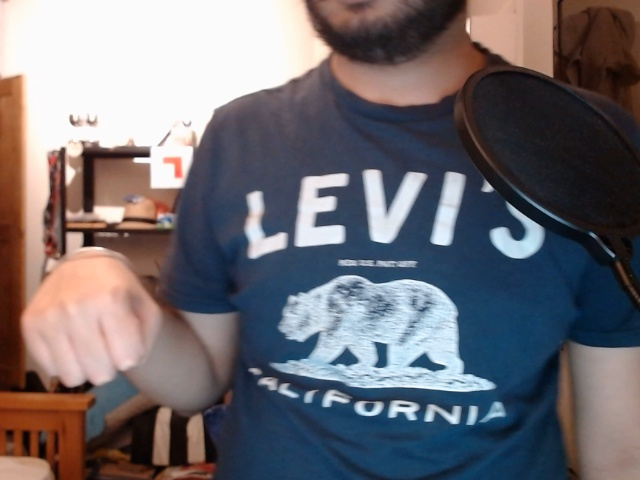Yes: (17, 229, 160, 405)
